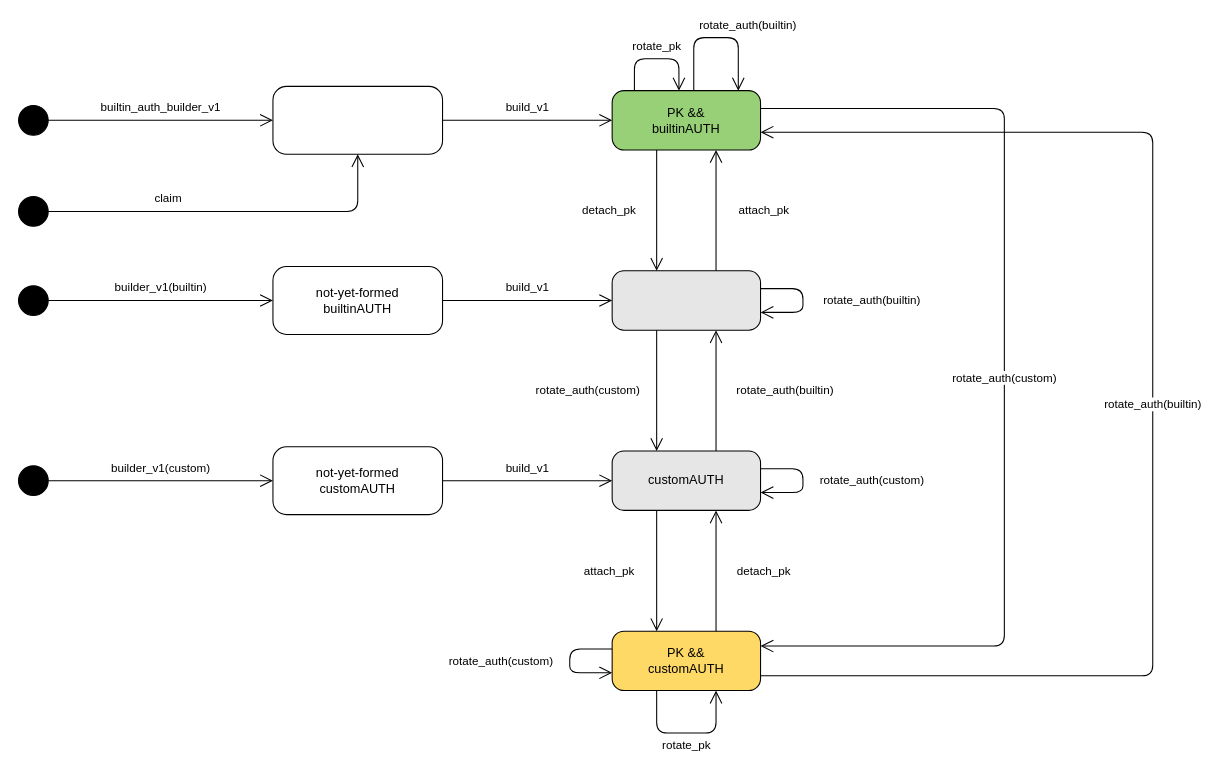
Image size: 1220x771. Some labels were removed from this diagram. Each missing label, with the box of its shape:
builtinAUTH: (611, 270, 761, 330)
not-yet-formed PK && builtinAUTH: (272, 85, 443, 154)
